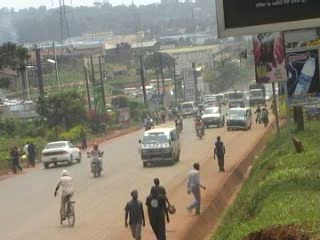Car: (39, 138, 82, 169)
Motorcycle: (86, 140, 105, 177), (193, 114, 207, 140), (172, 114, 185, 136), (142, 112, 154, 131)
